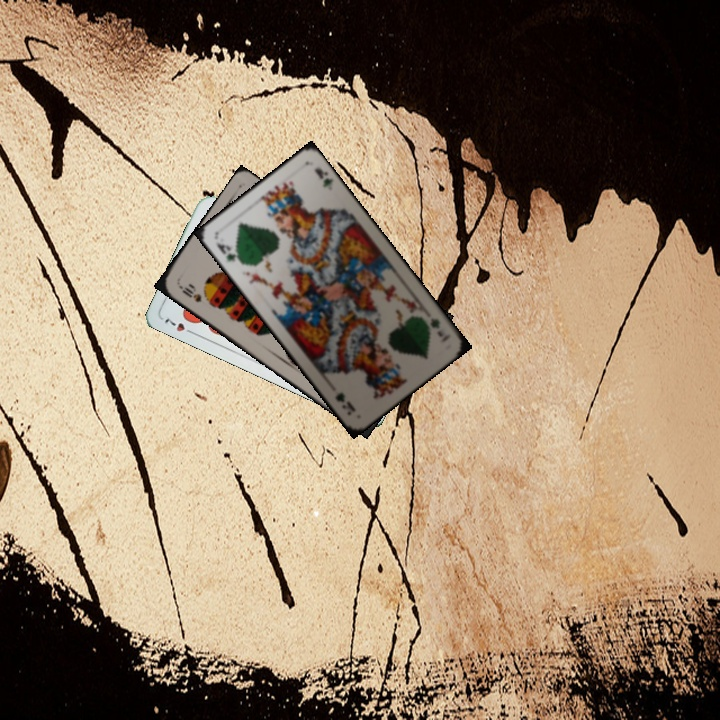GK: (212, 239, 245, 265), (426, 314, 445, 340)
H7: (160, 314, 198, 337)
S10: (174, 279, 204, 305)
